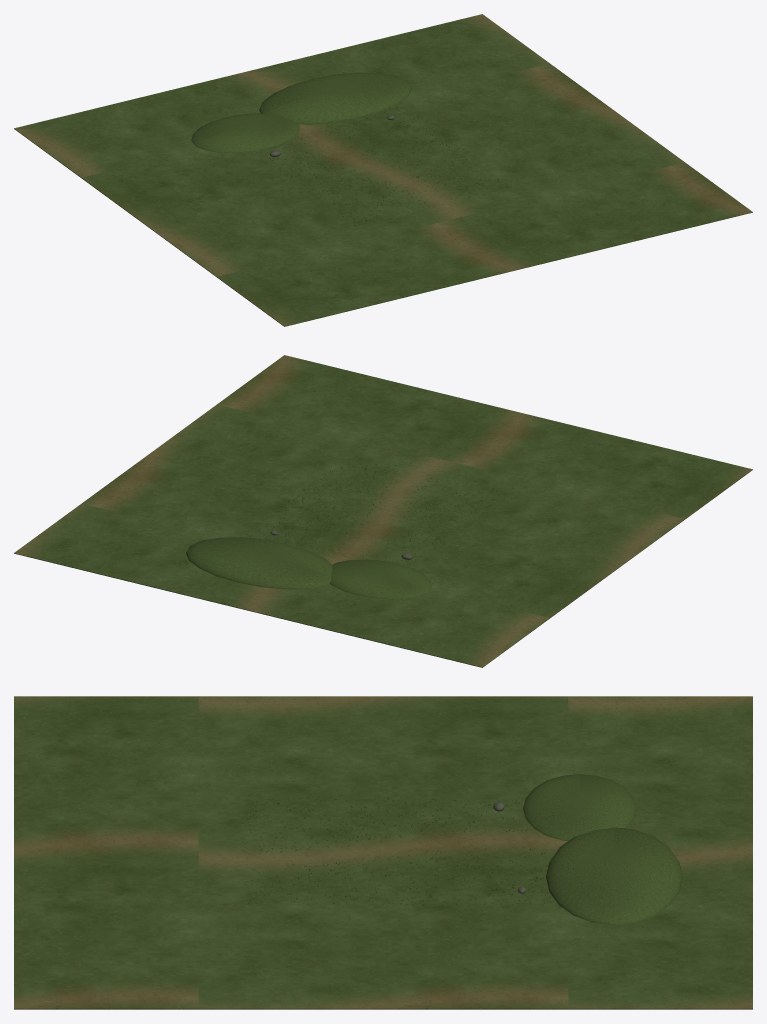
Rendered from grassland-v1.glb.
3 renders of one model, top to bottom at view 1: azimuth 30°, elevation 25°; view 2: azimuth 150°, elevation 25°; view 3: azimuth 270°, elevation 25°, orthographic. The views are drawn at different scales.
Visible parts, largest first — view 1: Earth gravel and wheel ruts, Distant grassy rise, Grass blades; view 2: Earth gravel and wheel ruts, Distant grassy rise, Grass blades; view 3: Earth gravel and wheel ruts, Distant grassy rise, Grass blades.
Part boxes in pixels (box(x1,y1,x2,y2)): Earth gravel and wheel ruts: box(14, 14, 752, 326); Distant grassy rise: box(191, 72, 411, 153); Grass blades: box(256, 107, 510, 222); Earth gravel and wheel ruts: box(14, 355, 752, 667); Distant grassy rise: box(186, 537, 431, 599); Grass blades: box(246, 455, 505, 564); Earth gravel and wheel ruts: box(14, 696, 752, 1009); Distant grassy rise: box(523, 774, 682, 924); Grass blades: box(244, 797, 554, 906).
Bounding box in the file's own units: 64 × 3 × 64.
3 materials, 3 textured.
